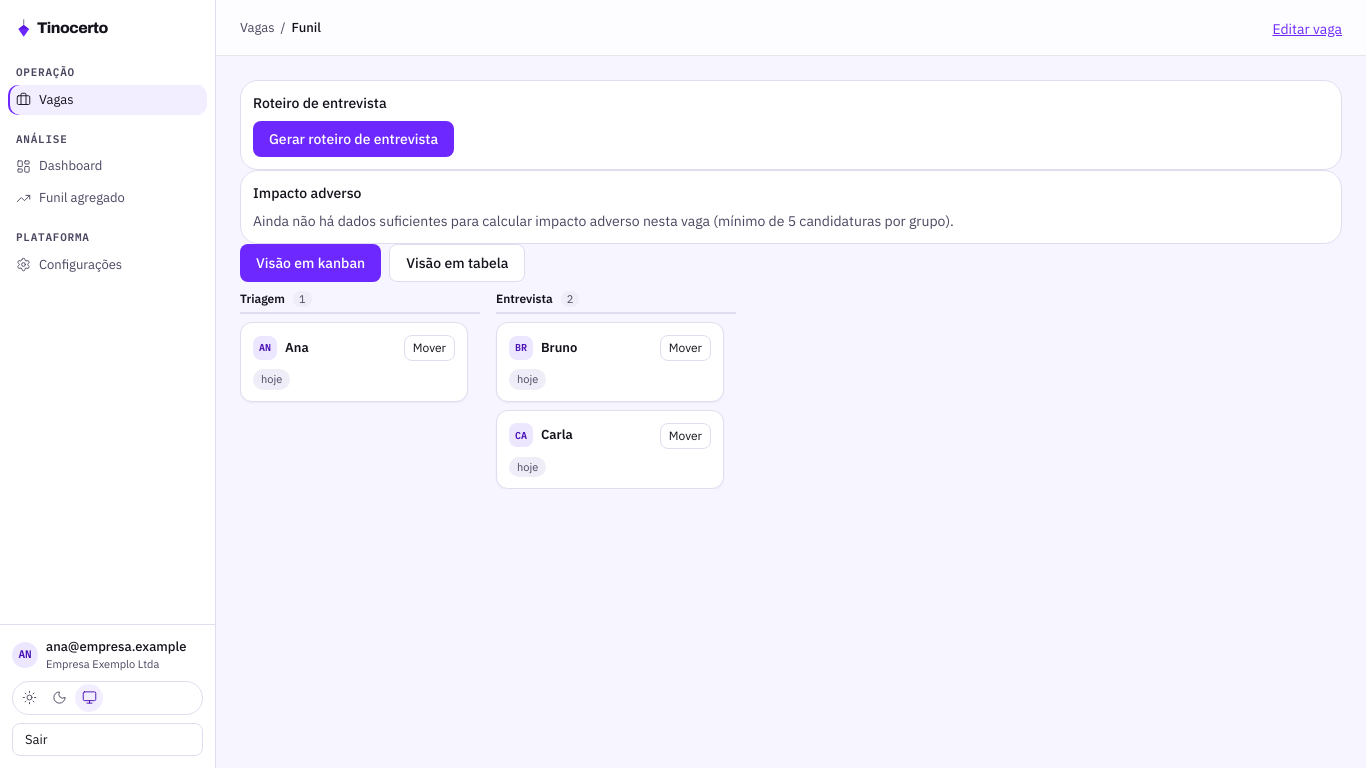
Test: FunilPage › lote ignora candidaturas já na etapa de destino, mesmo quando outras do lote precisam mover (achado F2)
The image size is (1366, 768).
Expected: the link "Ana" is shown, [285,339,309,356]
Click the button "Visão em tabela" at (457, 263), box [389,244,525,282]
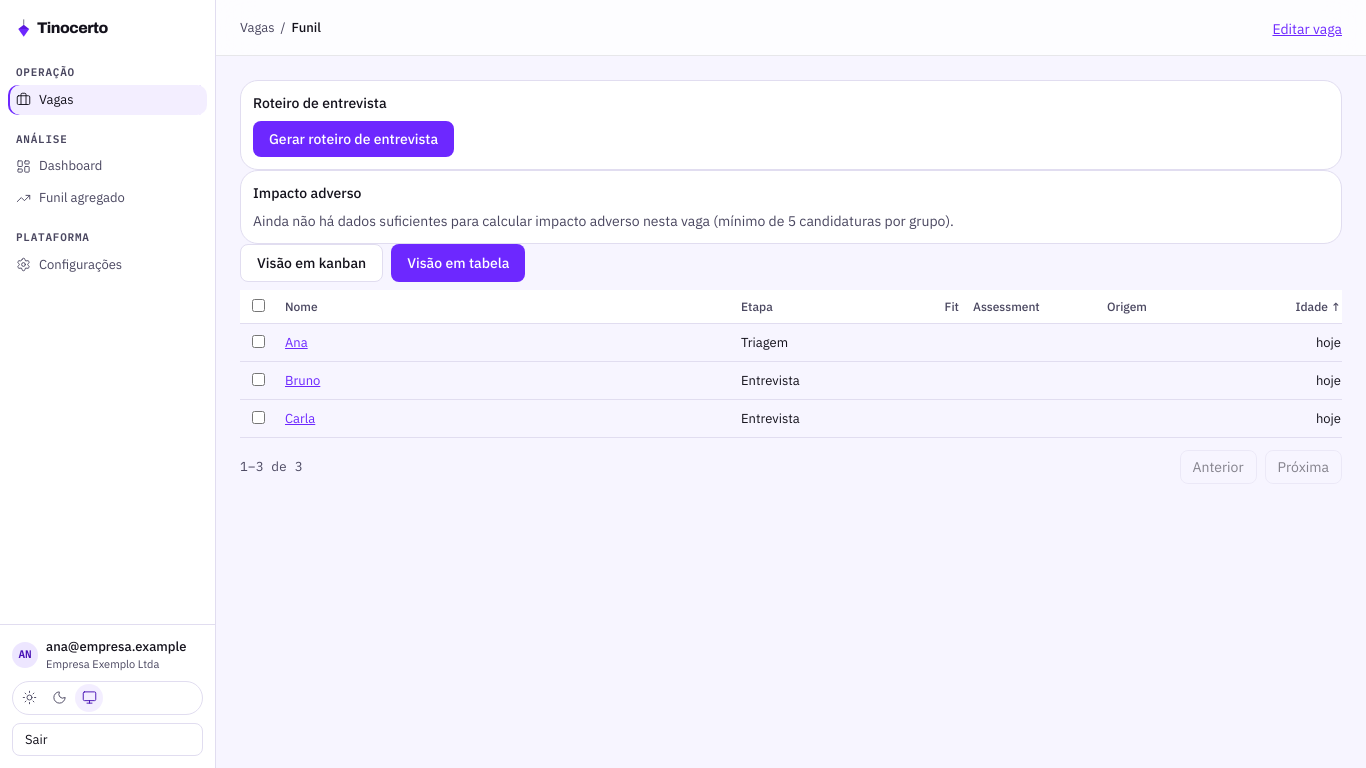
Result: the table is shown at [240,290,1342,438]
Click the checkbox named "Selecionar linha Ana" at (258, 341), box [252,334,265,348]
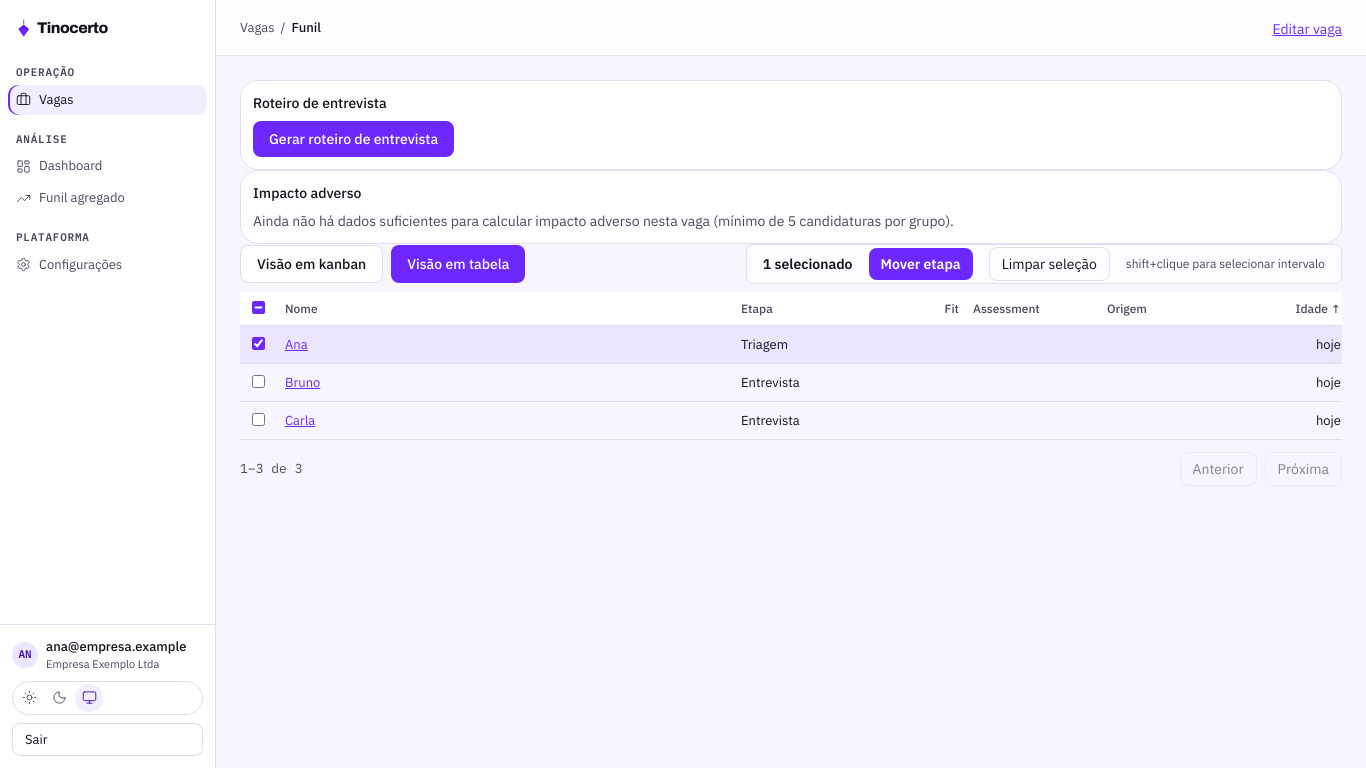
Click the checkbox named "Selecionar linha Bruno" at (258, 381), box [252,374,265,388]
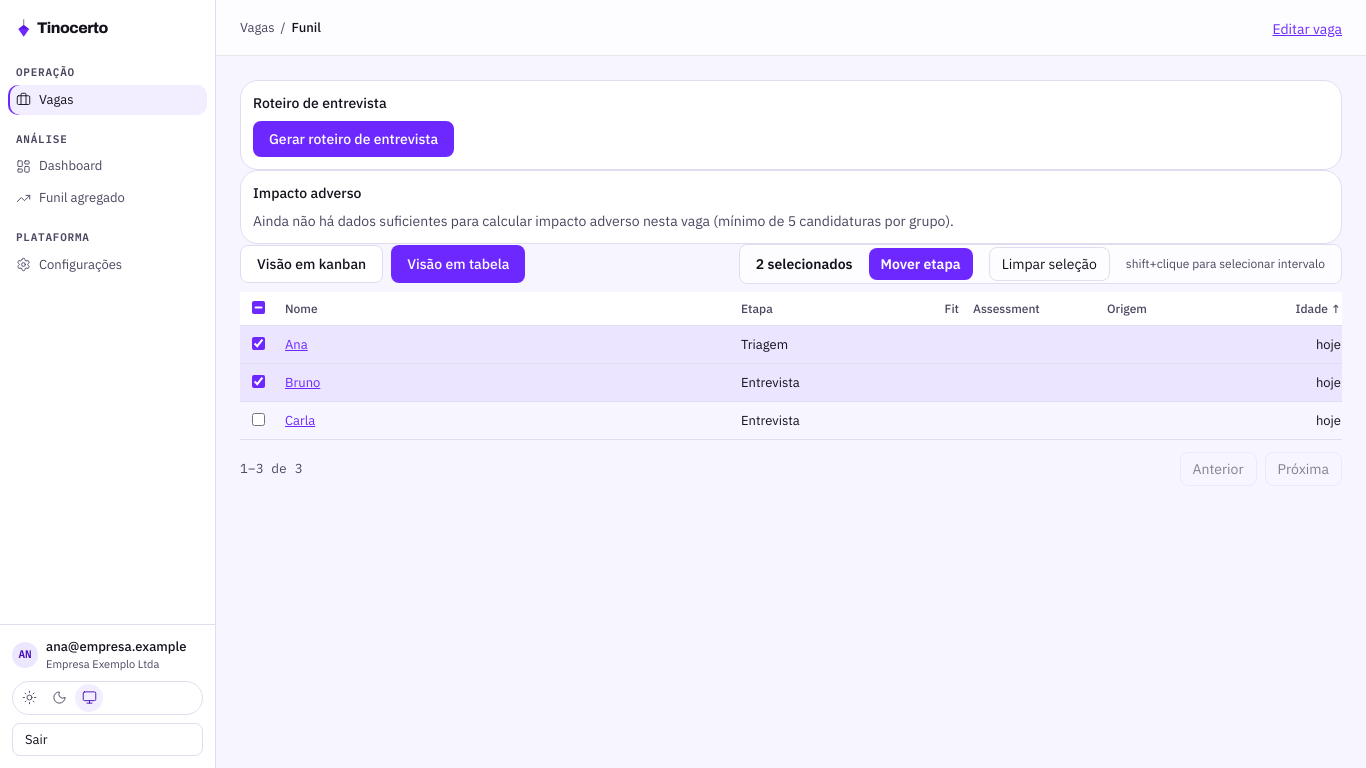
Click the checkbox named "Selecionar linha Carla" at (258, 419), box [252,412,265,426]
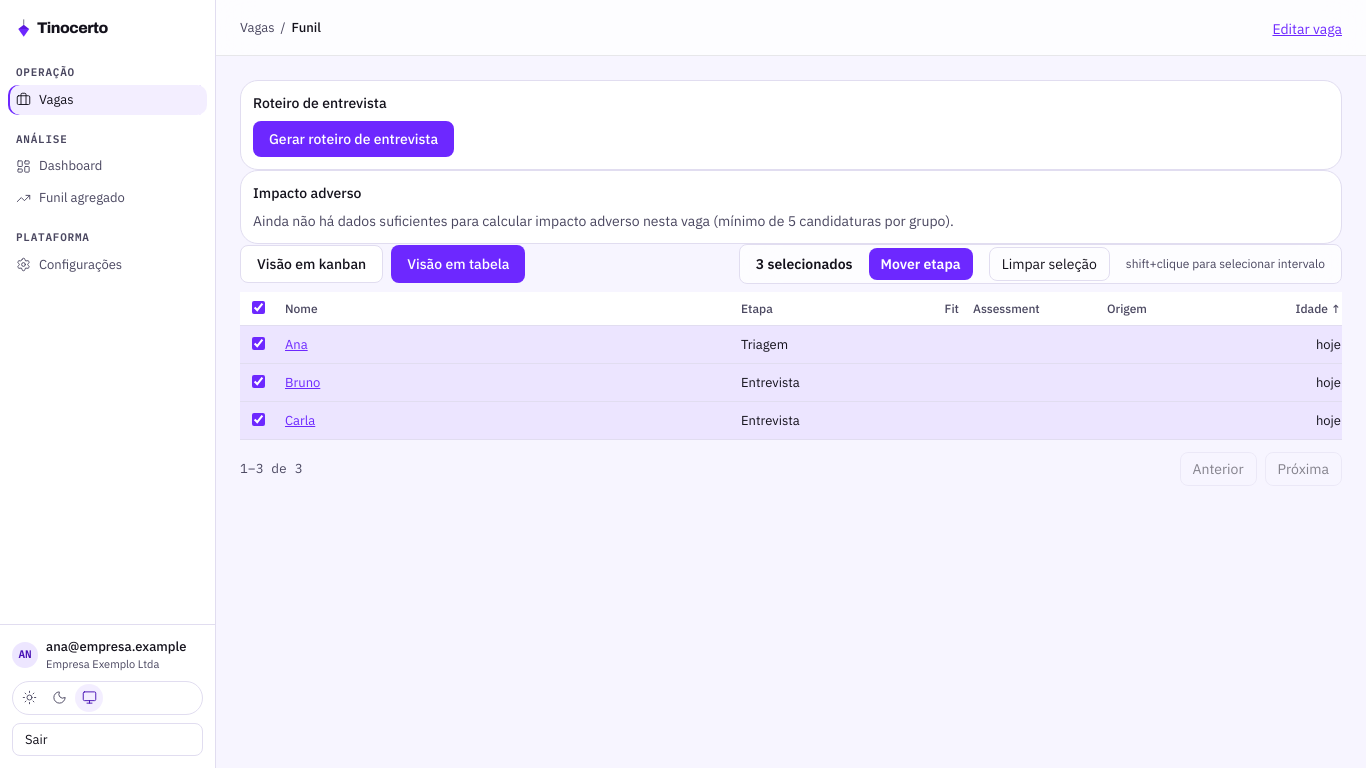
Click the button "Mover etapa" at (921, 264), box [868,248,973,280]
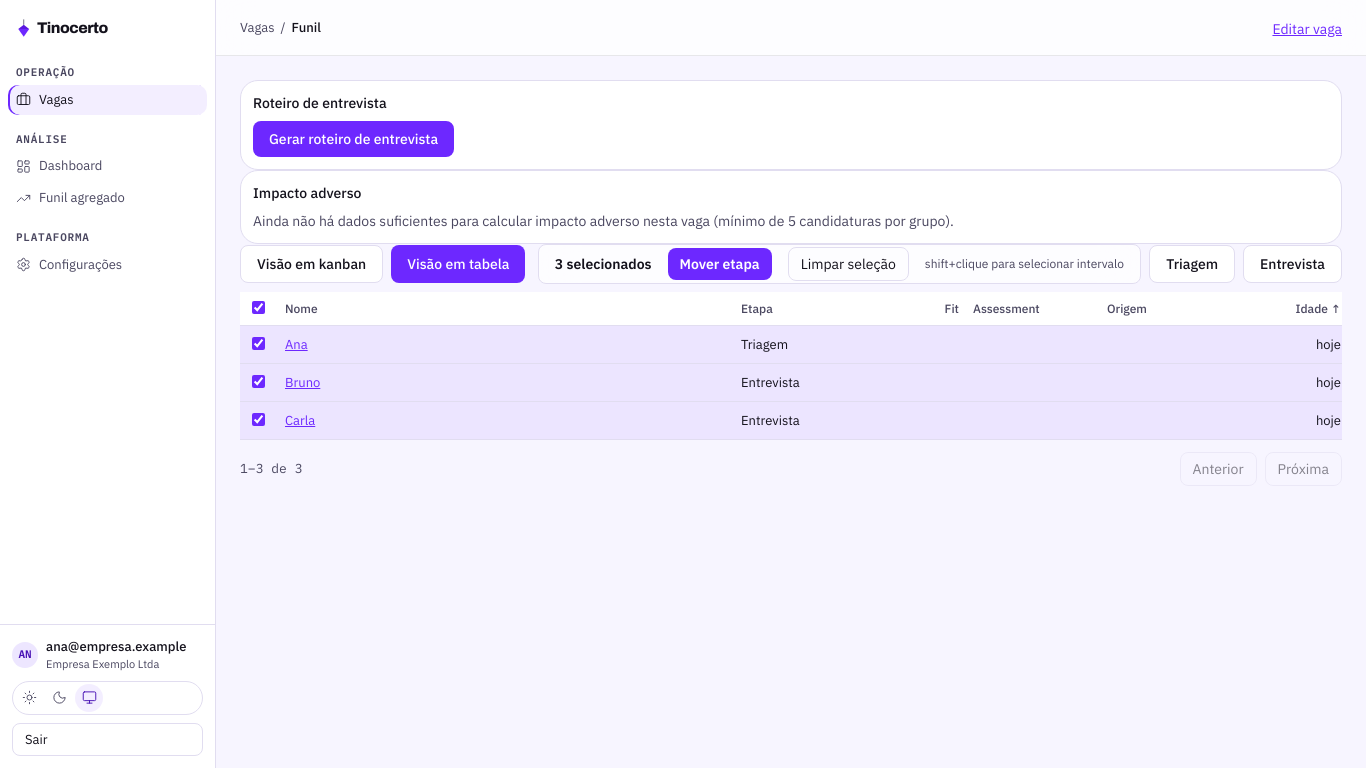
Click the button "Entrevista" at (1292, 264), box [1243,245,1342,283]
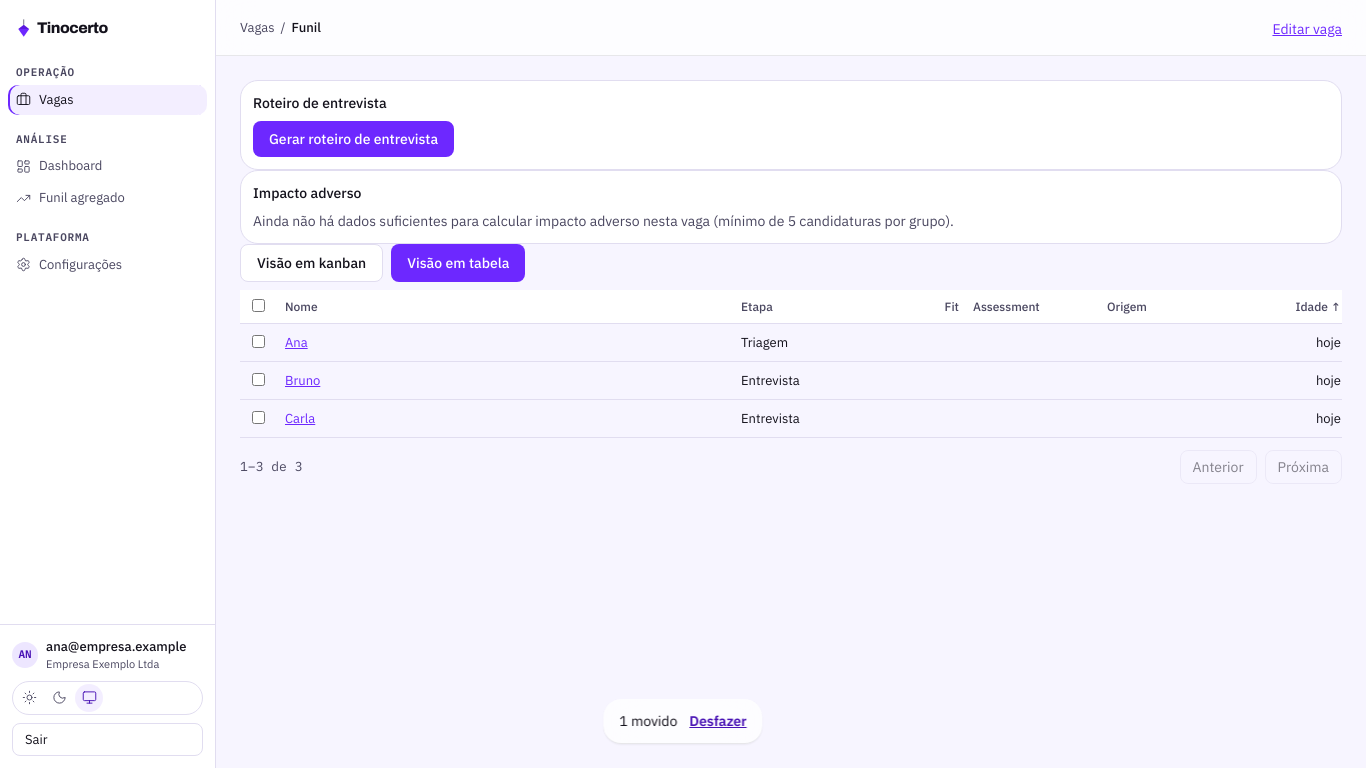
Result: the message shows "1 movido" at [619,712,677,730]
